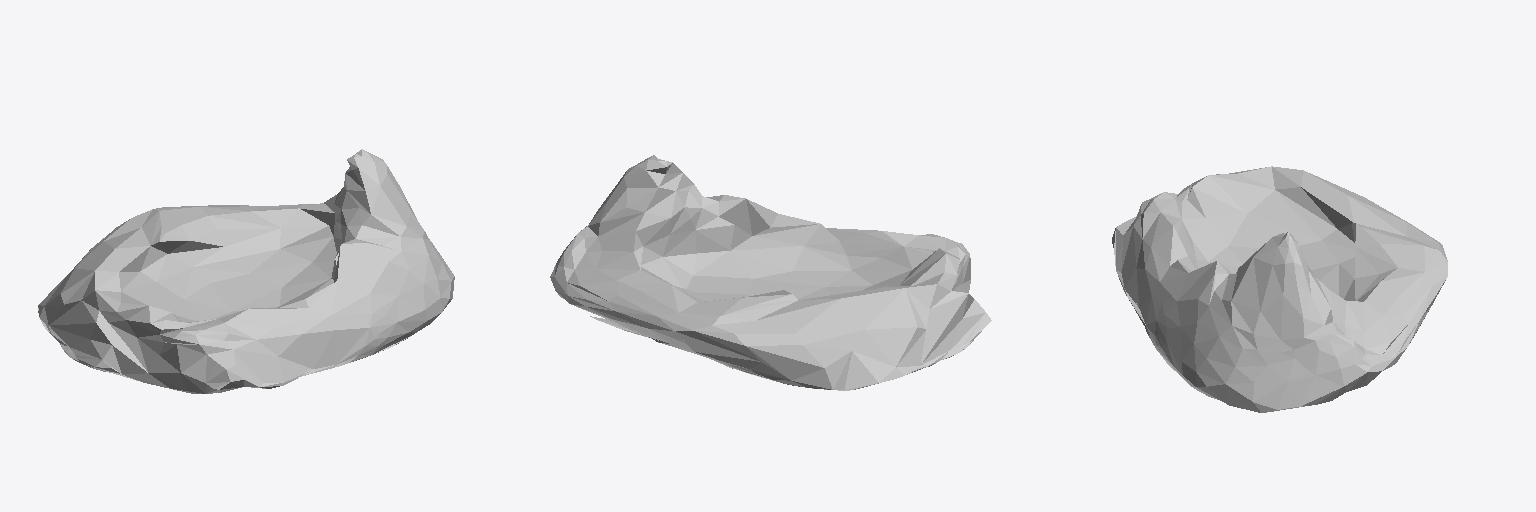
File: islandblend2.obj
The picture shows the model from 3 angles: view 1: azimuth 30°, elevation 25°; view 2: azimuth 150°, elevation 25°; view 3: azimuth 270°, elevation 25°; orthographic projection.
Parts seen in each view (by area): view 1: Cube; view 2: Cube; view 3: Cube.
Boxes of the visible parts, x1,y1,x2,y2 form: Cube: [38, 149, 454, 393]; Cube: [550, 155, 991, 390]; Cube: [1112, 166, 1447, 412].
Size of the model in its own units: 43.99 by 16.95 by 33.34.